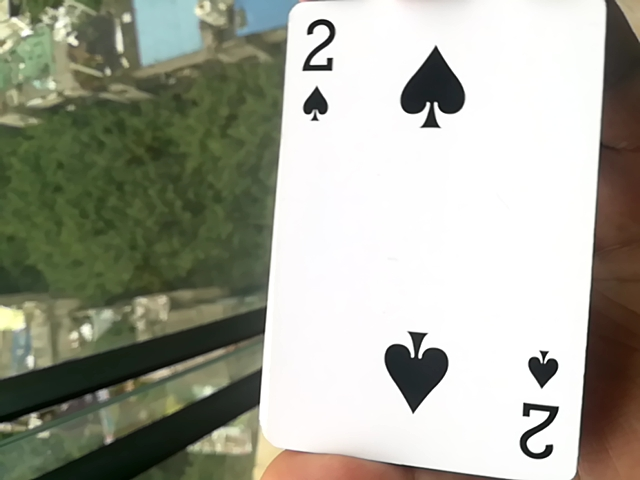ht 2: (246, 5, 616, 480)
